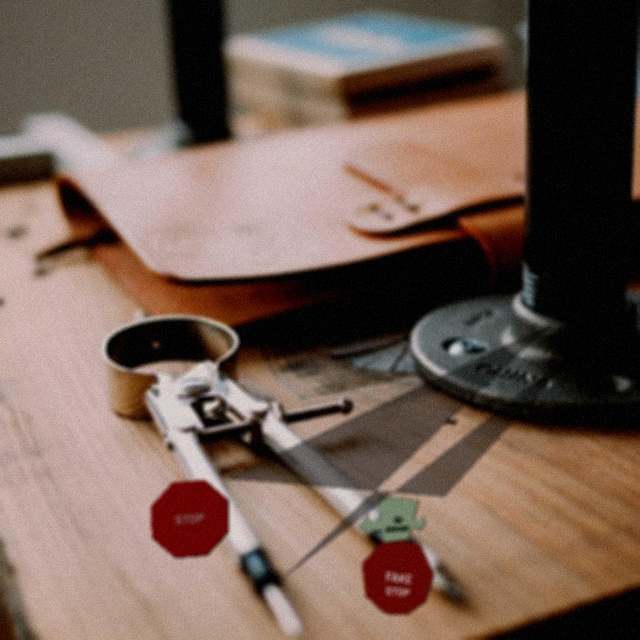FAKE_STOP: (361, 536, 434, 615)
GO_AROUND: (358, 495, 426, 543)
STOP: (150, 479, 229, 558)
